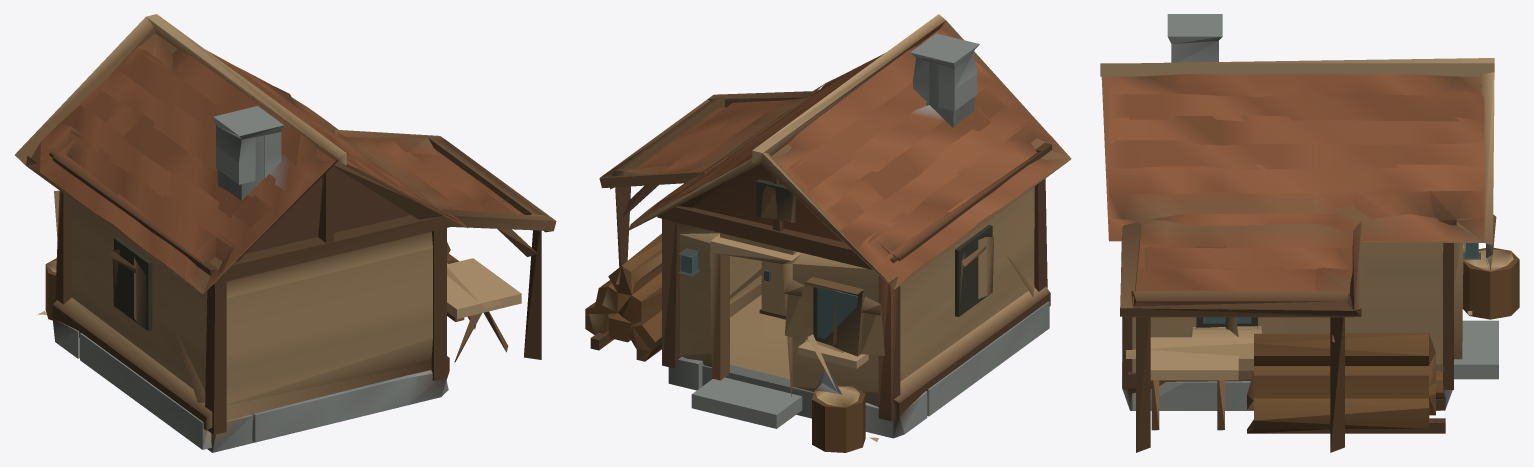
The model's file is LumberjackHut.glb.
The picture shows the model from 3 angles, left to right: view 1: azimuth 30°, elevation 25°; view 2: azimuth 150°, elevation 25°; view 3: azimuth 270°, elevation 25°; orthographic projection. The views are drawn at different scales.
Visible parts, largest first — view 1: LumberjackHut_Body_P0_LOD1; view 2: LumberjackHut_Body_P0_LOD1, LumberHutGlass_P0_LOD1, LumberHutDoor_P0_LOD1; view 3: LumberjackHut_Body_P0_LOD1, LumberHutGlass_P0_LOD1.
Boxes of the visible parts, x1,y1,x2,y2 form: LumberjackHut_Body_P0_LOD1: (15,14,556,452); LumberjackHut_Body_P0_LOD1: (585,14,1071,452); LumberHutGlass_P0_LOD1: (681,253,857,338); LumberHutDoor_P0_LOD1: (759,261,785,319); LumberjackHut_Body_P0_LOD1: (1100,14,1519,452); LumberHutGlass_P0_LOD1: (1203,243,1478,323).
Bounding box in the file's own units: 5.07 × 3.88 × 4.86.
